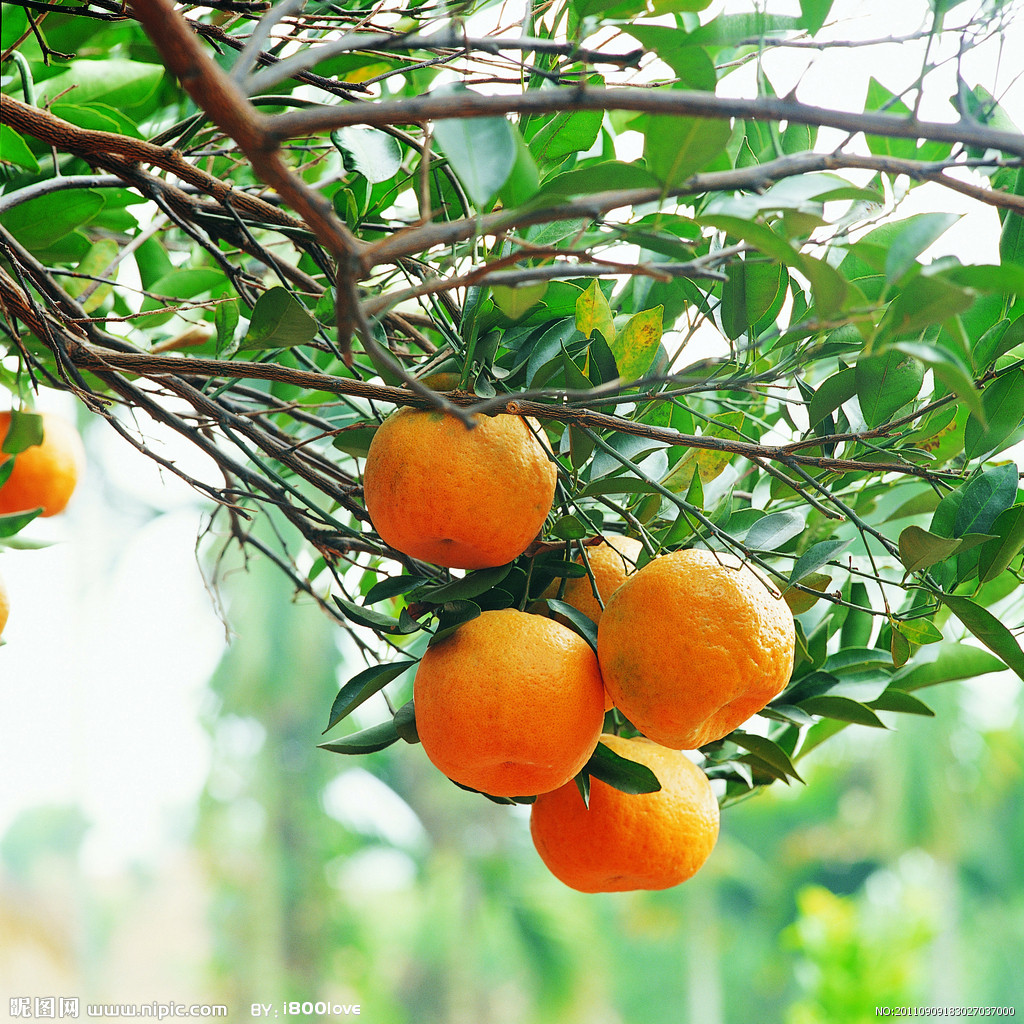orange: (602, 546, 793, 751), (416, 606, 603, 801), (366, 397, 557, 566), (527, 742, 718, 893), (539, 530, 661, 649), (1, 411, 74, 520)
